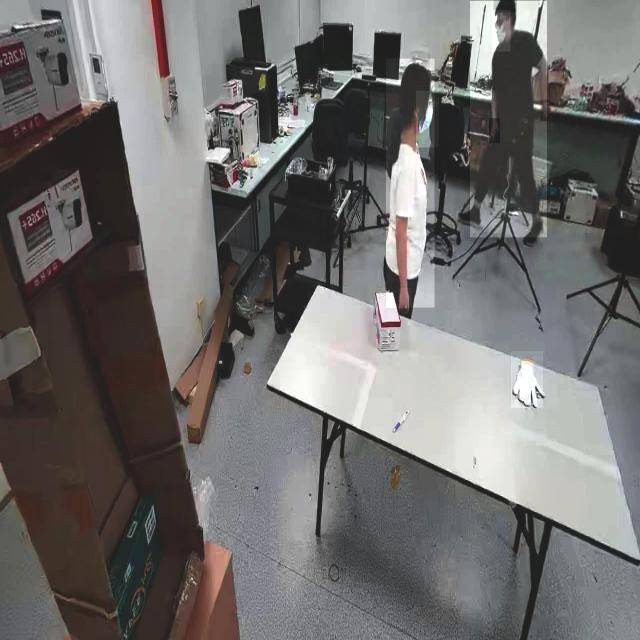face_mask: (416, 90, 439, 148), (492, 10, 510, 52)
hand_glove: (511, 351, 543, 409)
hand_noglove: (398, 288, 412, 316), (488, 118, 500, 144), (540, 100, 550, 122)
head_nohelmet: (400, 59, 434, 89), (493, 0, 517, 13)
person: (469, 1, 547, 238), (386, 59, 434, 308)
shoes: (520, 211, 548, 255), (455, 200, 486, 228)
